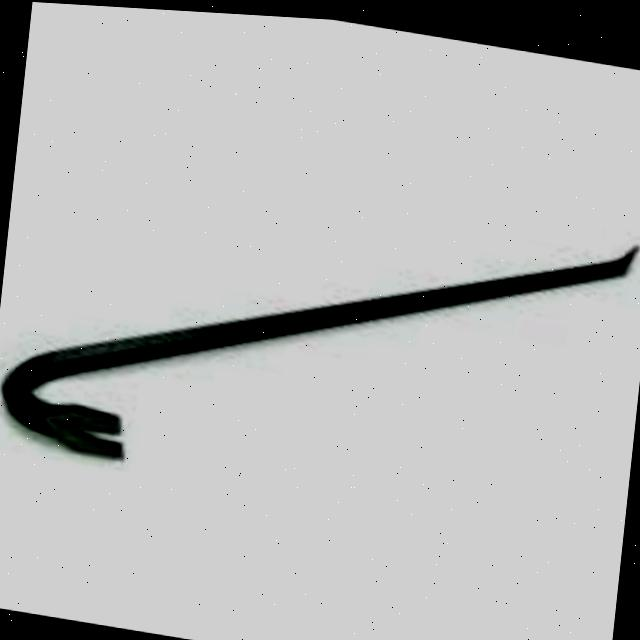crow bar: (0, 124, 640, 541)
